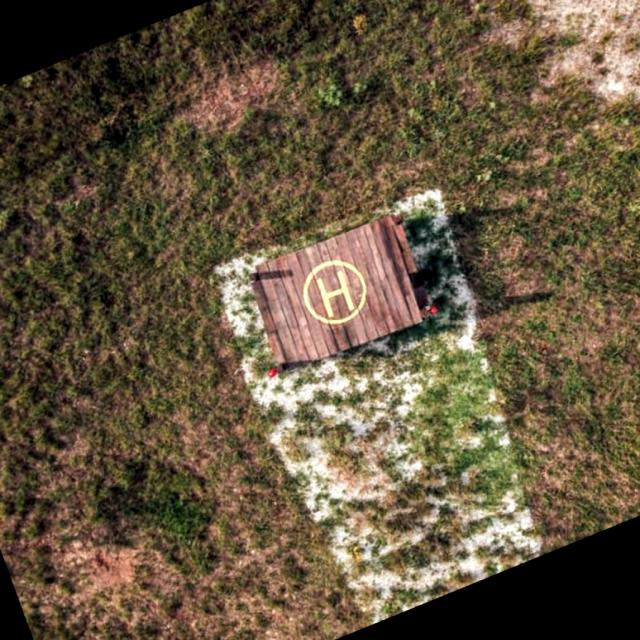helipad: (300, 256, 368, 326)
